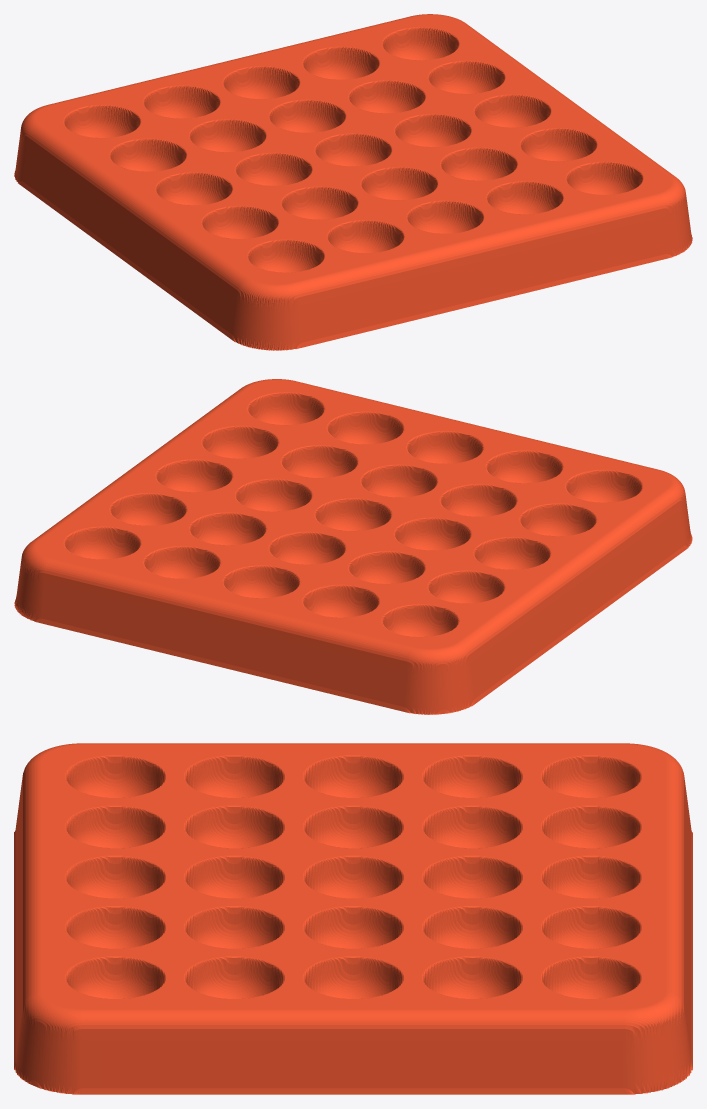
File: mold.glb
The picture shows the model from 3 angles, top to bottom: view 1: azimuth 30°, elevation 25°; view 2: azimuth 150°, elevation 25°; view 3: azimuth 270°, elevation 25°; orthographic projection. The views are drawn at different scales.
Visible parts, largest first — view 1: geometry_0; view 2: geometry_0; view 3: geometry_0.
Part boxes in pixels (bbox=[...]): geometry_0: bbox=[14, 14, 692, 350]; geometry_0: bbox=[14, 379, 692, 714]; geometry_0: bbox=[14, 743, 692, 1094].
Bounding box in the file's own units: 0.0902 × 0.0108 × 0.0902.
